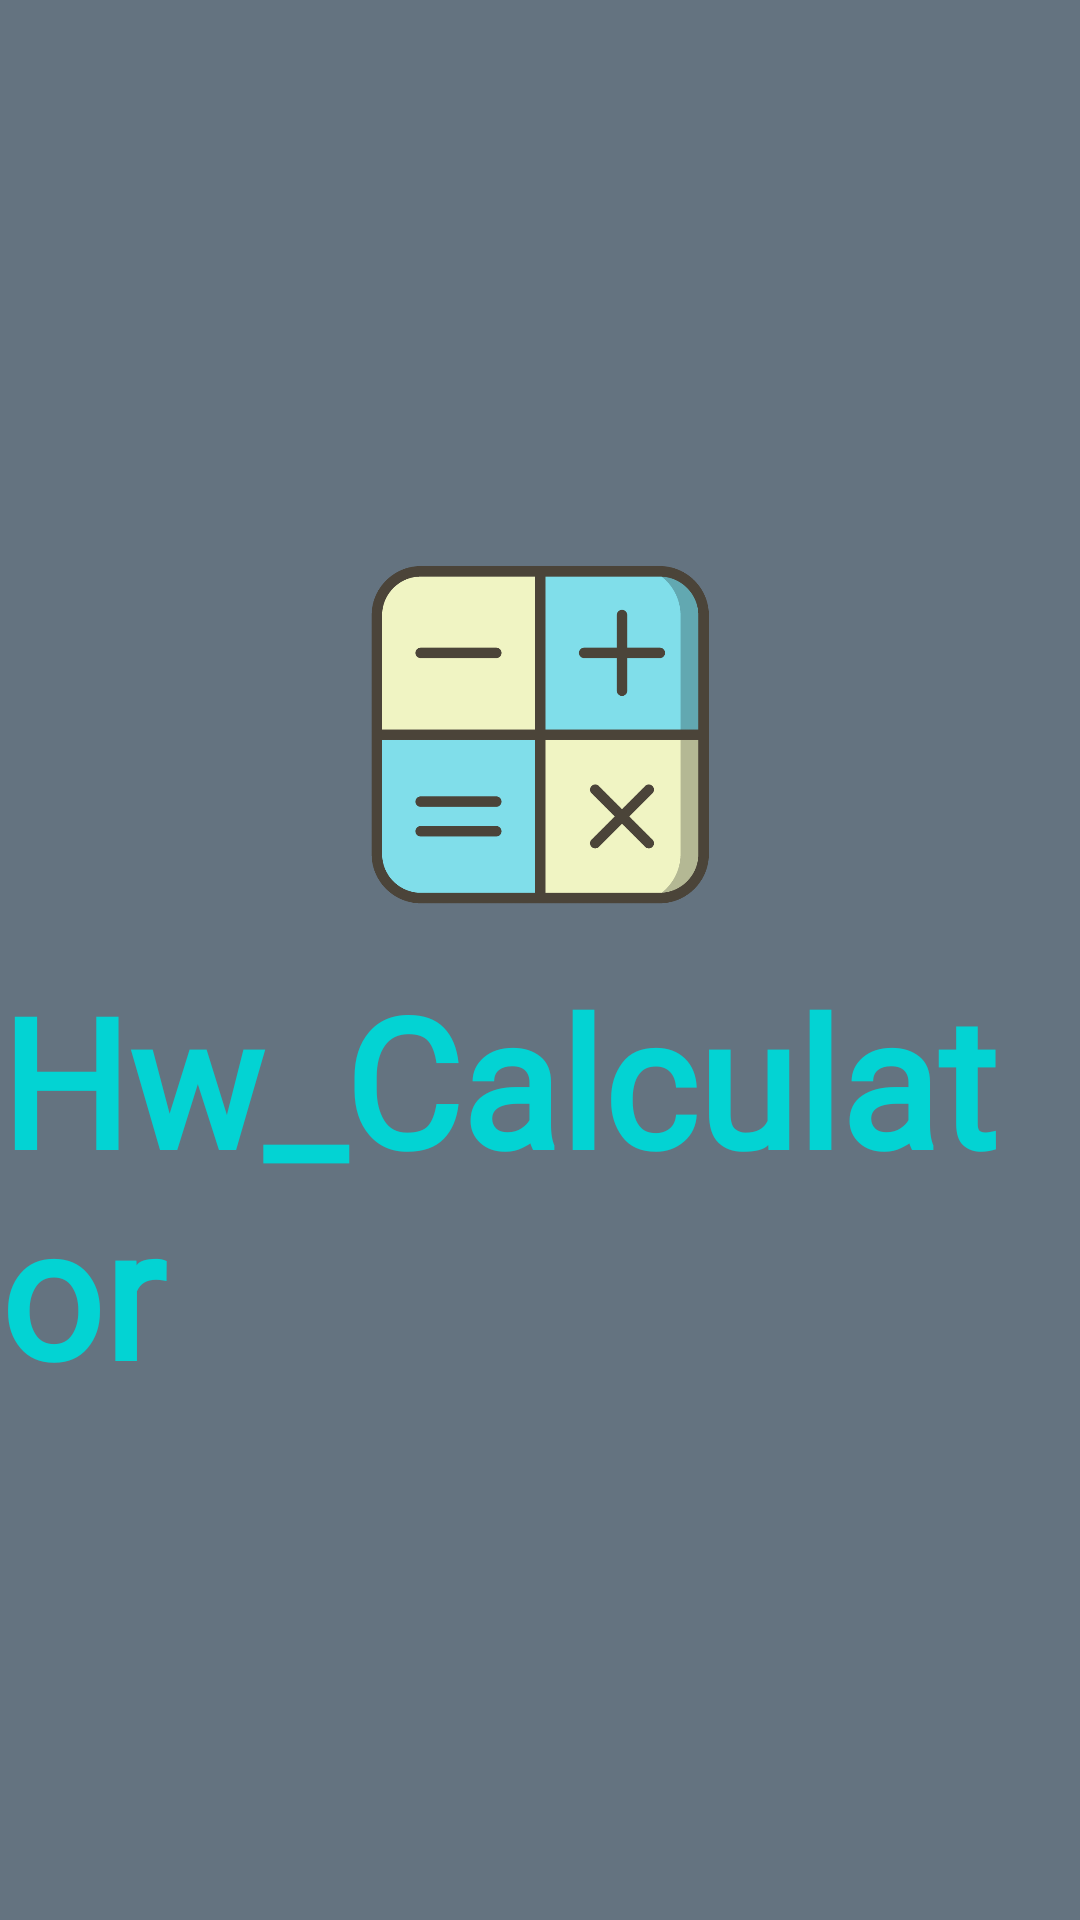

Where icons sit on this 1080 × 1920 app screen, as bbox=(x1, y1, x2, y2):
calimg: bbox=(372, 566, 709, 903)
